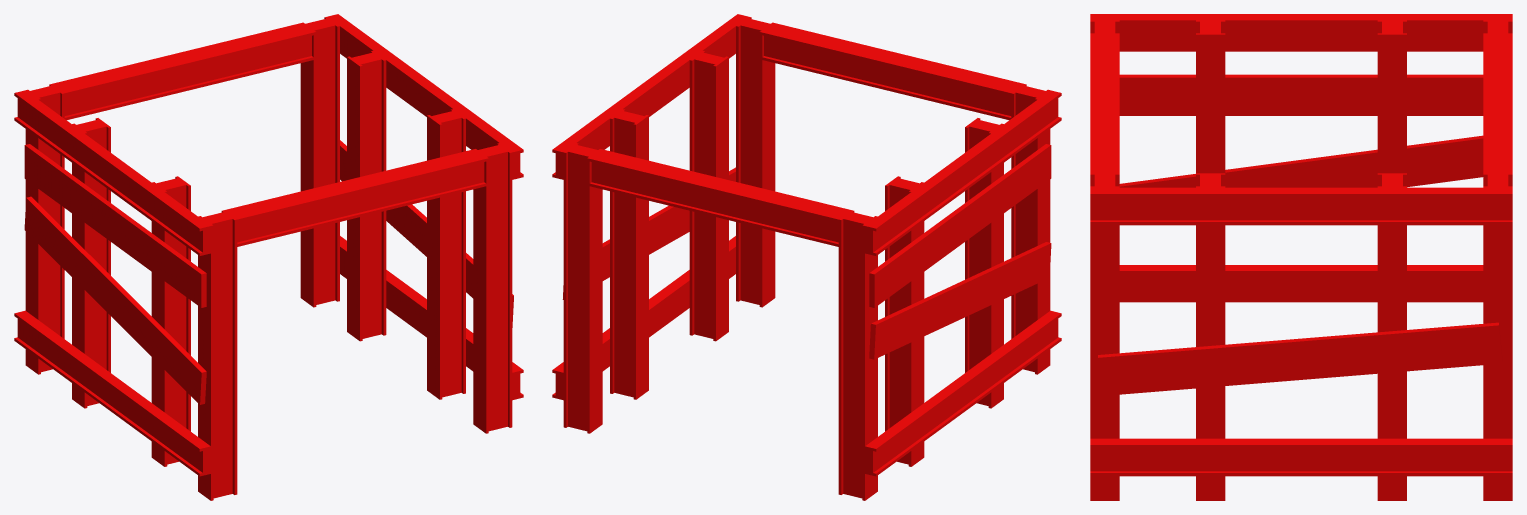
The model's file is Elevator_Base.fbx.
3 views of the same model, side by side, from view 1: azimuth 30°, elevation 25°; view 2: azimuth 150°, elevation 25°; view 3: azimuth 270°, elevation 25° (orthographic). The views are drawn at different scales.
Visible parts, largest first — view 1: Elevator_Base; view 2: Elevator_Base; view 3: Elevator_Base.
Part boxes in pixels (x1,y1,x2,y2): Elevator_Base: [14, 14, 523, 500]; Elevator_Base: [552, 14, 1061, 500]; Elevator_Base: [1090, 14, 1512, 500].
Size of the model in its own units: 0.2811 by 0.2281 by 0.2787.
